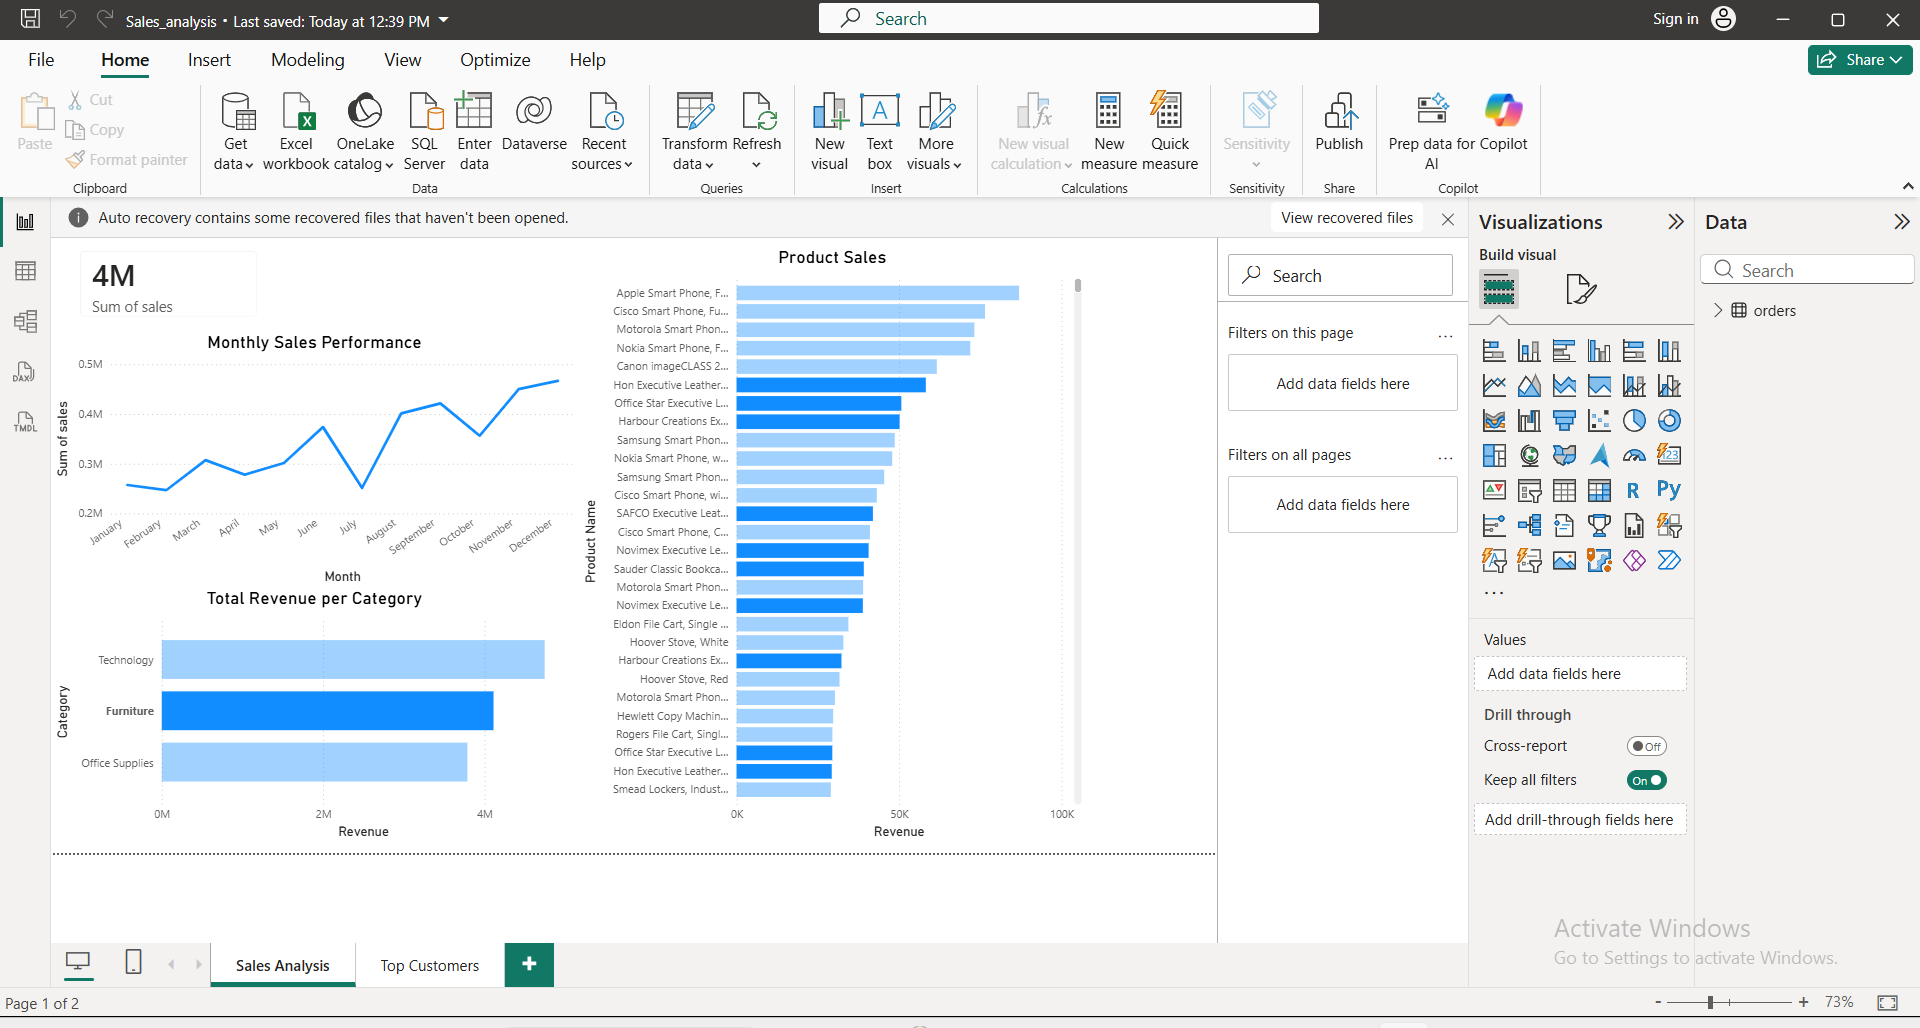

This screenshot's page, from the dashboard's own definition file:
{"tool":"powerbi","page":{"name":"Sales Analysis","canvas":[1280,720],"ordinal":0},"visuals":[{"type":"cardVisual","fields":{"Data":["Sum(orders.sales)"]},"box":[15,42.5,228.8,106.2],"z":0},{"type":"barChart","title":"Total Revenue per Category","fields":{"Category":["orders.category"],"Y":["Sum(orders.sales)"]},"box":[0,430,578.8,280],"z":1},{"type":"barChart","title":"Product Sales","fields":{"Category":["orders.product_name"],"Y":["Sum(orders.sales)"]},"box":[578.8,55,557.5,655],"z":2},{"type":"lineChart","title":"Monthly Sales Performance","fields":{"Category":["orders.order_date.Variation.Date Hierarchy.Month"],"Y":["Sum(orders.sales)"]},"box":[0,148.8,578.8,281.2],"z":3}]}

Visuals, with their boxes on the page's 1280x720 design canvas (x1, y1, x2, y2). These are canvas units, not pixel positions in the 1920x1028 screenshot, which may show the page scaled, cropped or inside an application window:
cardVisual - Sum(orders.sales): <region>15, 42, 244, 149</region>
"Total Revenue per Category" barChart: <region>0, 430, 579, 710</region>
"Product Sales" barChart: <region>579, 55, 1136, 710</region>
"Monthly Sales Performance" lineChart: <region>0, 149, 579, 430</region>
